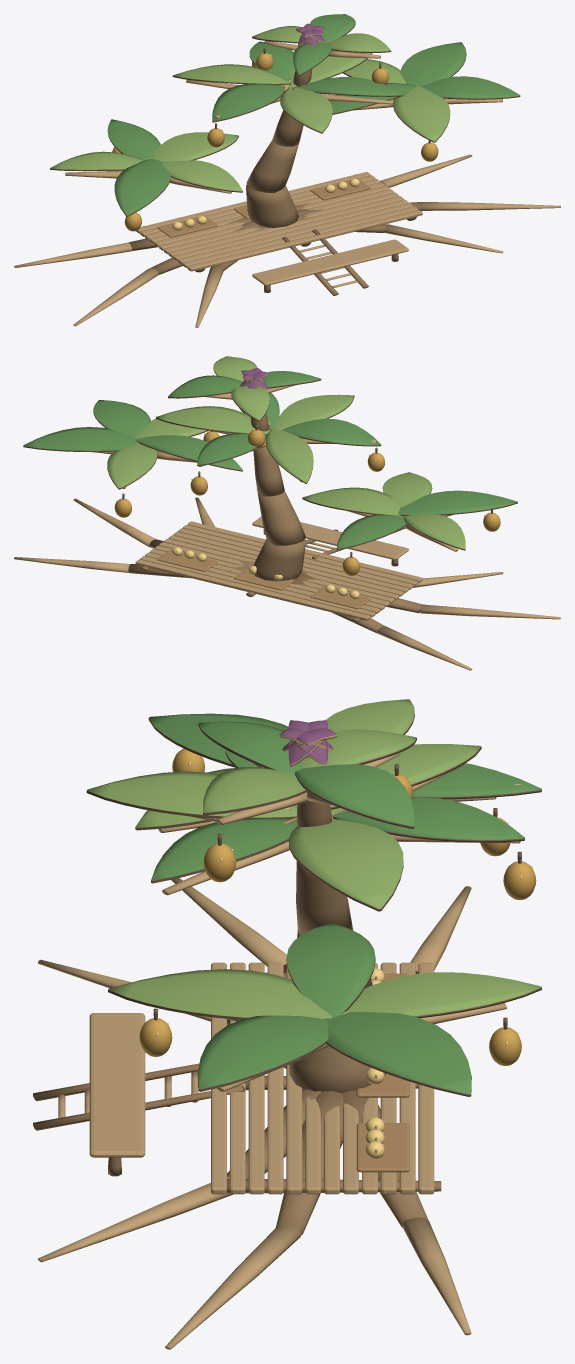
The model's file is verdant_nursery.glb.
The picture shows the model from 3 angles, top to bottom: view 1: azimuth 30°, elevation 25°; view 2: azimuth 150°, elevation 25°; view 3: azimuth 270°, elevation 25°; orthographic projection. The views are drawn at different scales.
Visible parts, largest first — view 1: Verdant Growth Nursery; view 2: Verdant Growth Nursery; view 3: Verdant Growth Nursery.
Part boxes in pixels (x1,y1,x2,y2): Verdant Growth Nursery: (14,14,560,327); Verdant Growth Nursery: (14,356,560,670); Verdant Growth Nursery: (33,699,541,1349).
Size of the model in its own units: 23.26 by 9.44 by 10.52.
